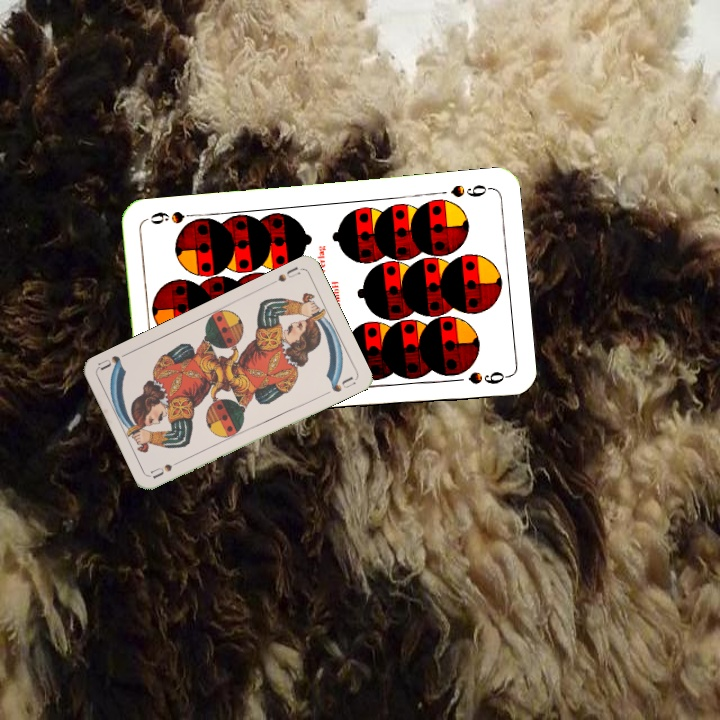S9: (446, 180, 494, 200)
SU: (147, 455, 187, 481), (274, 262, 303, 285)
